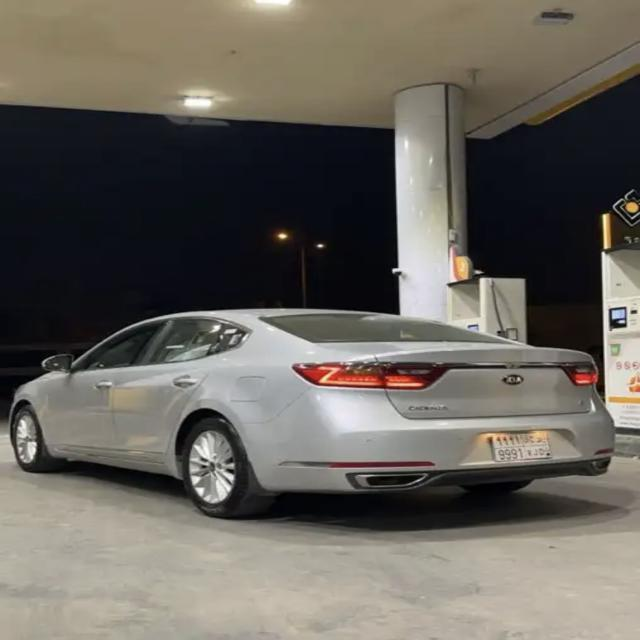license_plate: (491, 434, 554, 462)
